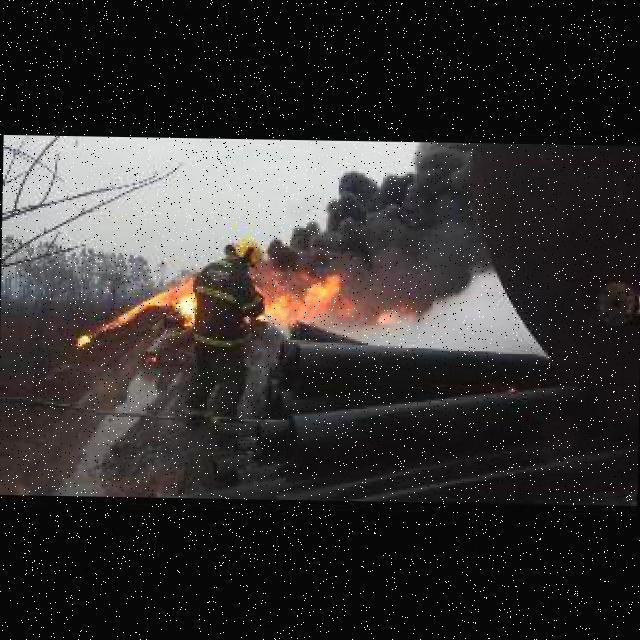Fire: (76, 254, 347, 347), (376, 301, 396, 321)
Smoke: (263, 141, 497, 281)
